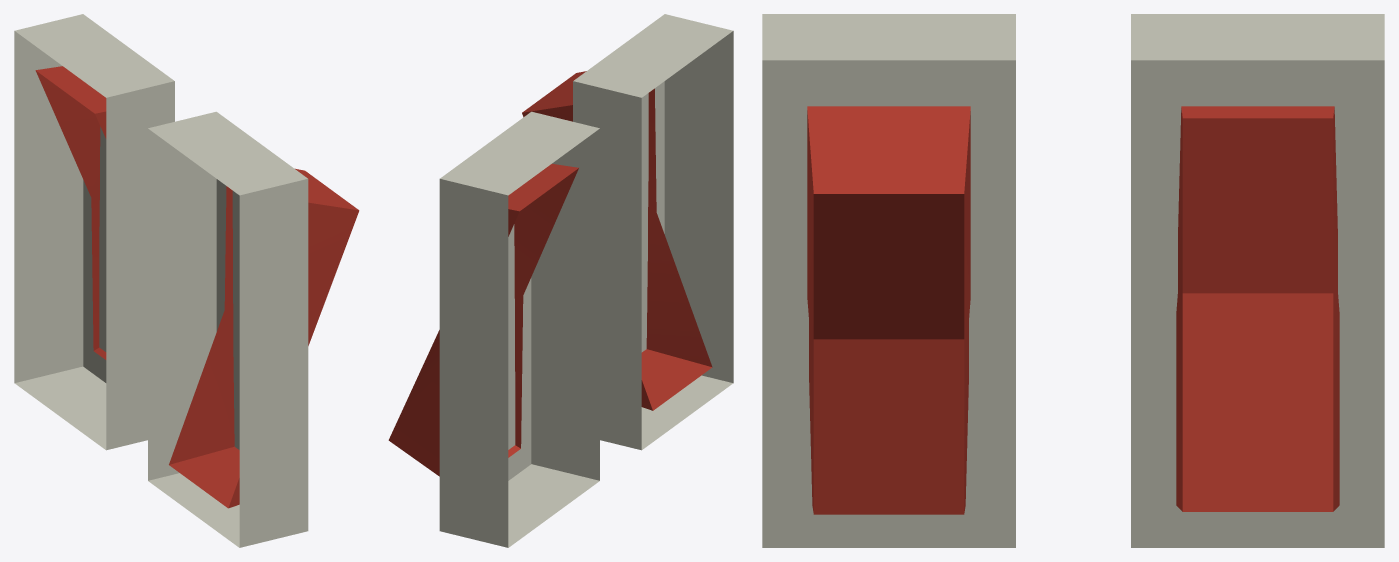
File: ButtonSet_07.fbx
3 renders of one model, left to right at view 1: azimuth 30°, elevation 25°; view 2: azimuth 150°, elevation 25°; view 3: azimuth 270°, elevation 25°, orthographic. The views are drawn at different scales.
Visible parts, largest first — view 1: ButtonSet_07; view 2: ButtonSet_07; view 3: ButtonSet_07.
Boxes of the visible parts, bbox=[...] form: ButtonSet_07: bbox=[14, 14, 359, 547]; ButtonSet_07: bbox=[388, 14, 733, 547]; ButtonSet_07: bbox=[762, 14, 1384, 547].
Size of the model in its own units: 0.0473 by 0.115 by 0.133.
